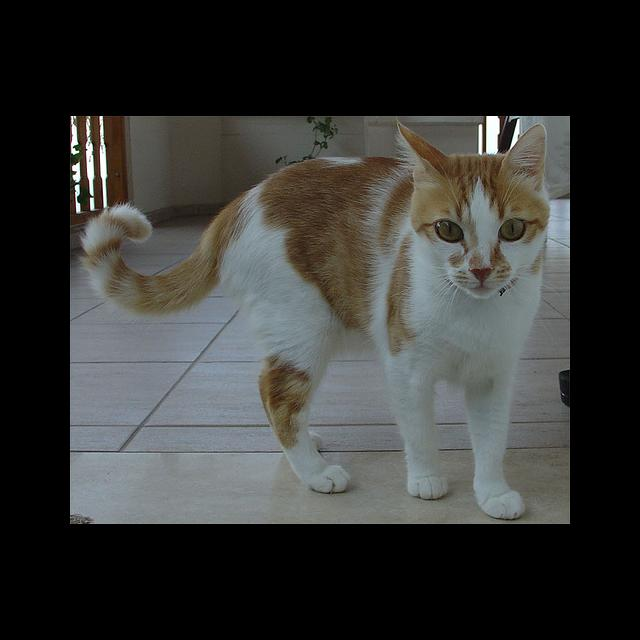animals: (397, 121, 543, 281)
